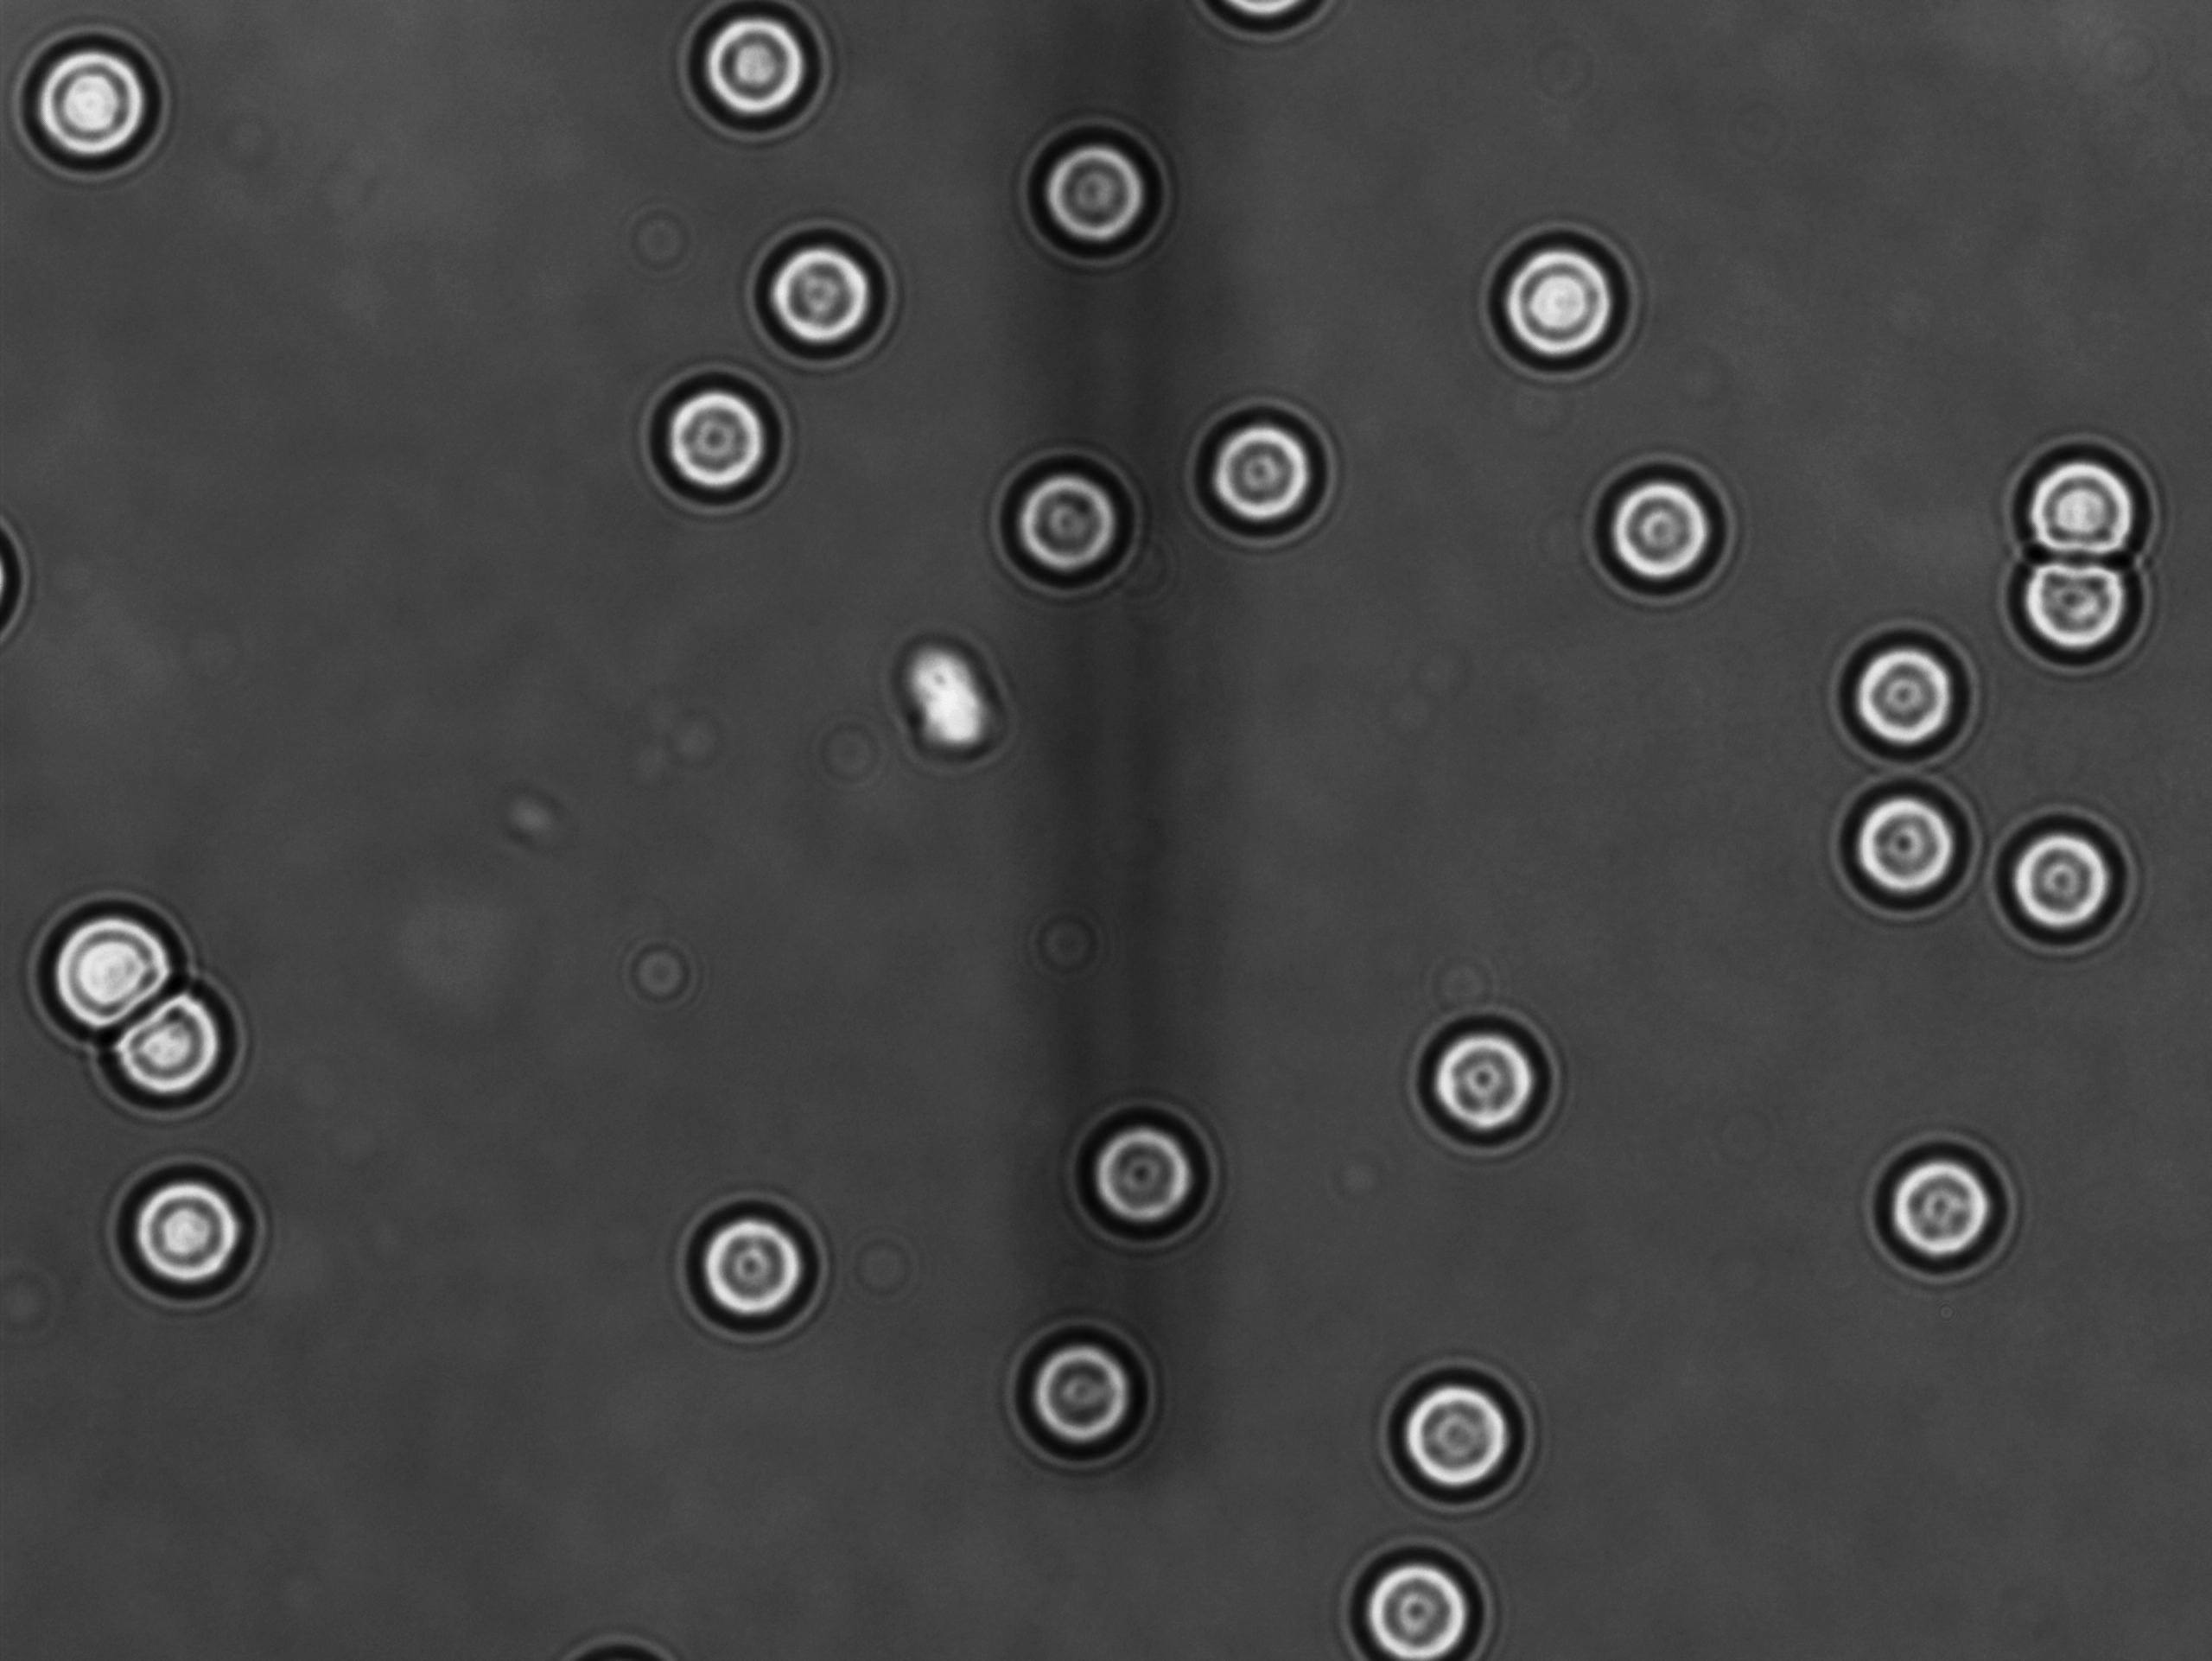depth:20: (1989, 414, 2189, 604), (1966, 787, 2146, 972), (658, 1174, 839, 1354), (1471, 213, 1642, 400), (1396, 982, 1574, 1159), (1366, 1343, 1546, 1516), (94, 1145, 276, 1314), (1851, 1122, 2029, 1293), (5, 19, 180, 190), (1169, 389, 1343, 558), (1994, 536, 2181, 691), (1057, 1090, 1235, 1251), (1823, 769, 1994, 932), (1000, 1307, 1171, 1469), (1818, 609, 1983, 775), (989, 438, 1155, 600), (740, 206, 907, 365), (1005, 112, 1176, 265), (1584, 445, 1744, 605), (625, 356, 787, 513), (1322, 1535, 1509, 1661)
